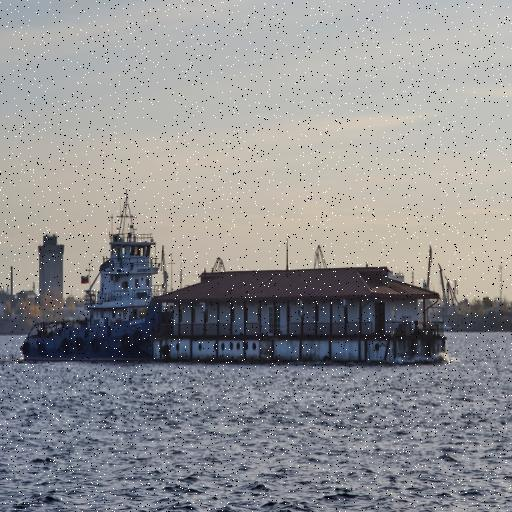tugboat: (19, 231, 188, 371)
